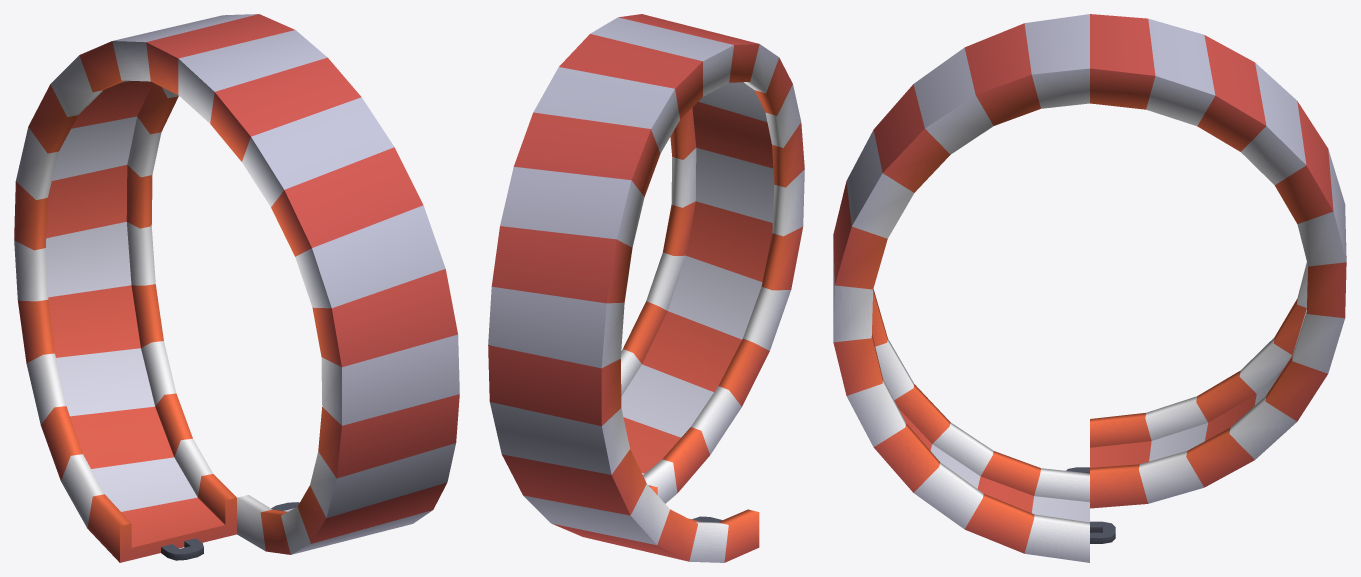
The model's file is track-striped-narrow-looping.glb.
3 renders of one model, left to right at view 1: azimuth 30°, elevation 25°; view 2: azimuth 150°, elevation 25°; view 3: azimuth 270°, elevation 25°, orthographic. The views are drawn at different scales.
Visible parts, largest first — view 1: track-striped-narrow-looping; view 2: track-striped-narrow-looping; view 3: track-striped-narrow-looping.
Part boxes in pixels (x1,y1,x2,y2): track-striped-narrow-looping: [14, 14, 459, 562]; track-striped-narrow-looping: [488, 14, 804, 562]; track-striped-narrow-looping: [833, 14, 1346, 562].
Size of the model in its own units: 6 by 12 by 11.94.
1 material, 1 textured.
